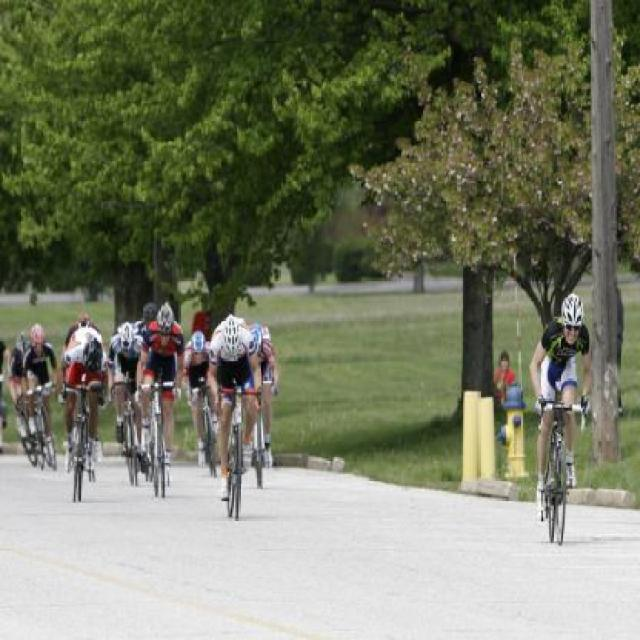Person: (527, 292, 590, 520), (205, 314, 262, 501), (134, 301, 186, 485), (56, 321, 110, 474), (103, 317, 148, 469), (180, 330, 218, 470), (247, 322, 282, 464), (25, 323, 61, 457), (608, 276, 632, 416), (68, 312, 106, 396), (7, 332, 30, 433), (127, 301, 161, 348), (489, 353, 518, 407), (0, 338, 9, 422)
